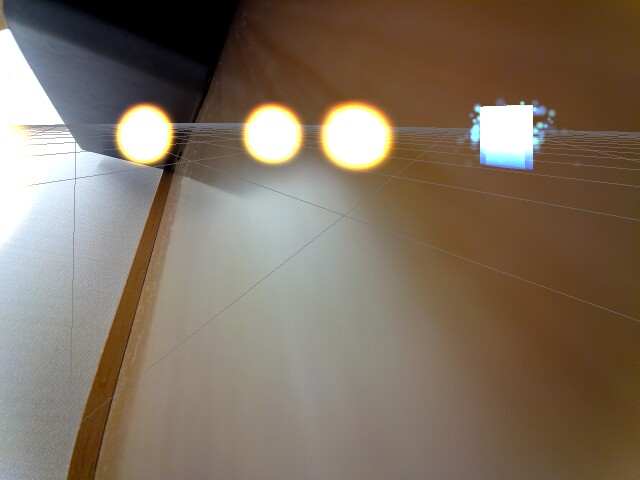firebig: (0, 94, 47, 259)
